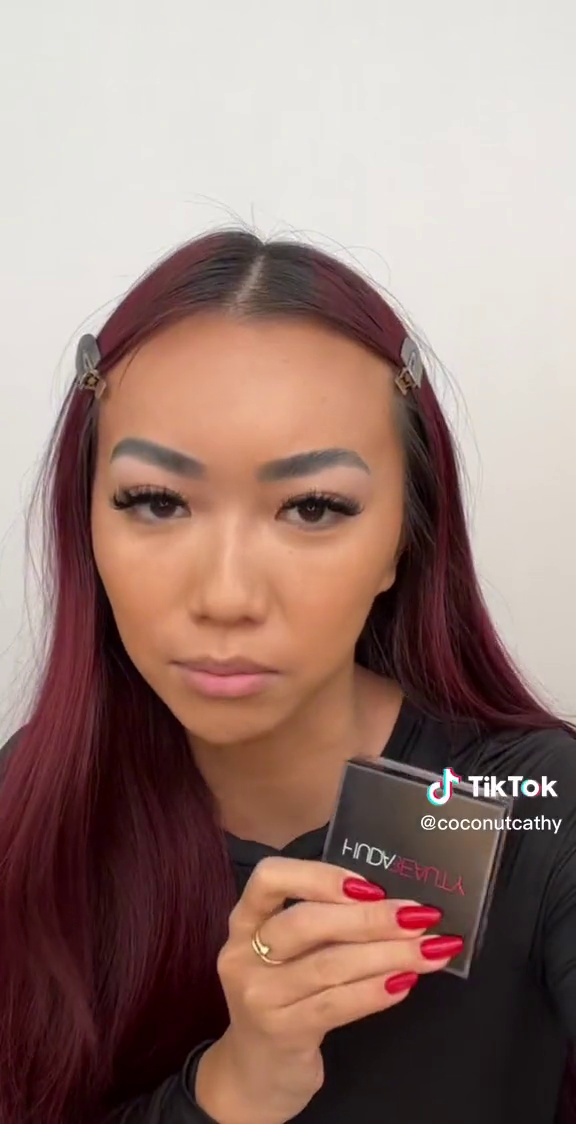train' :'yolo_data/train/images',: (300, 742, 523, 985)
